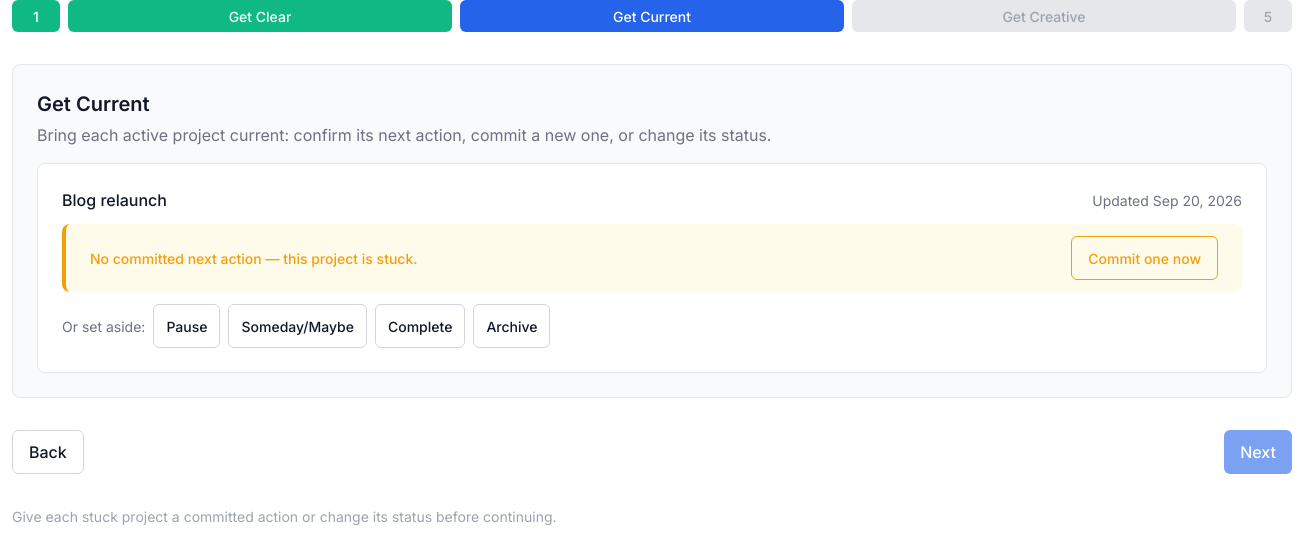
it: ReviewShell › Get Current: changing a stuck project's status PATCHes it and clears the block
# Stuck project with no available actions → only path is a status change.
Click the button with aria-label "Pause Blog relaunch": [187, 326] box [153,304,220,348]
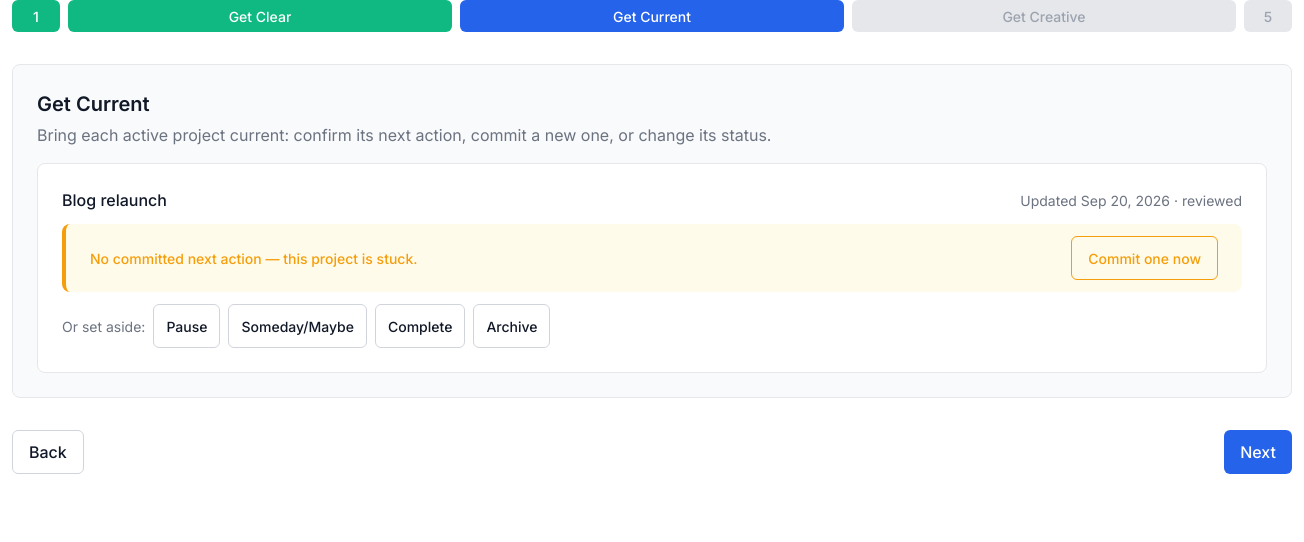
Expected: the button "Next" is enabled, [1224,430,1292,474]
